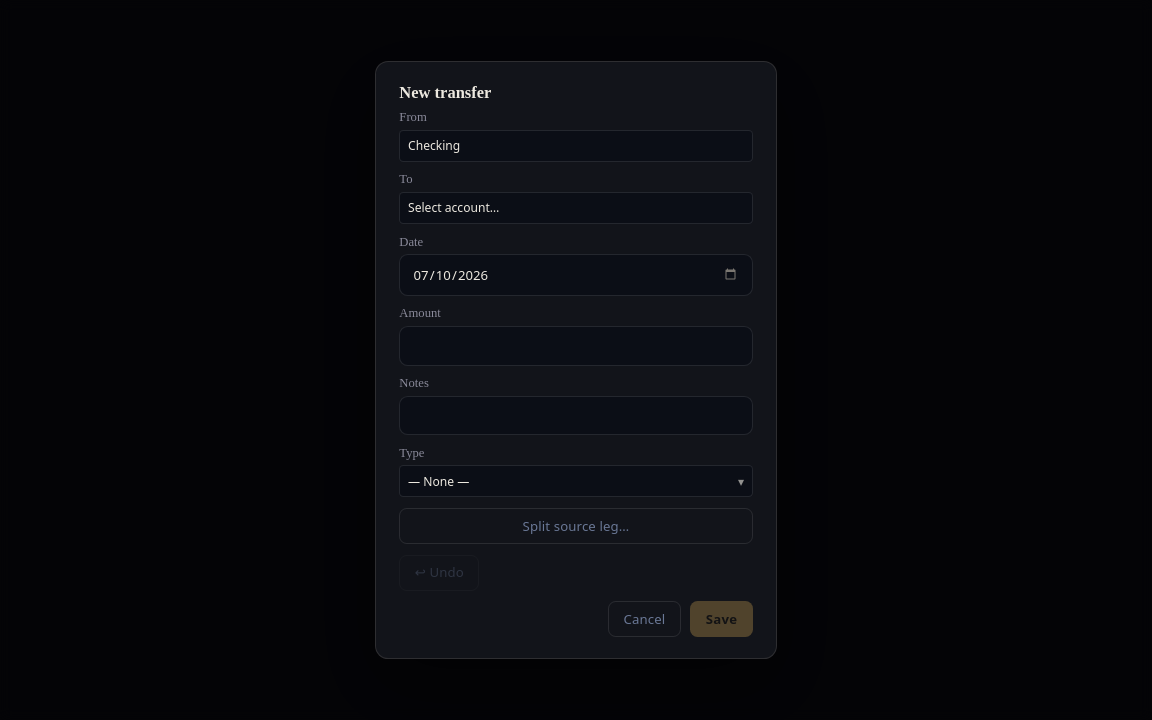
Scenario: TransferEditor › Type picker lists only transfer-flow categories plus None
The image size is (1152, 720).
Click the button with aria-label "type" at (439, 481), box [399,465,753,498]
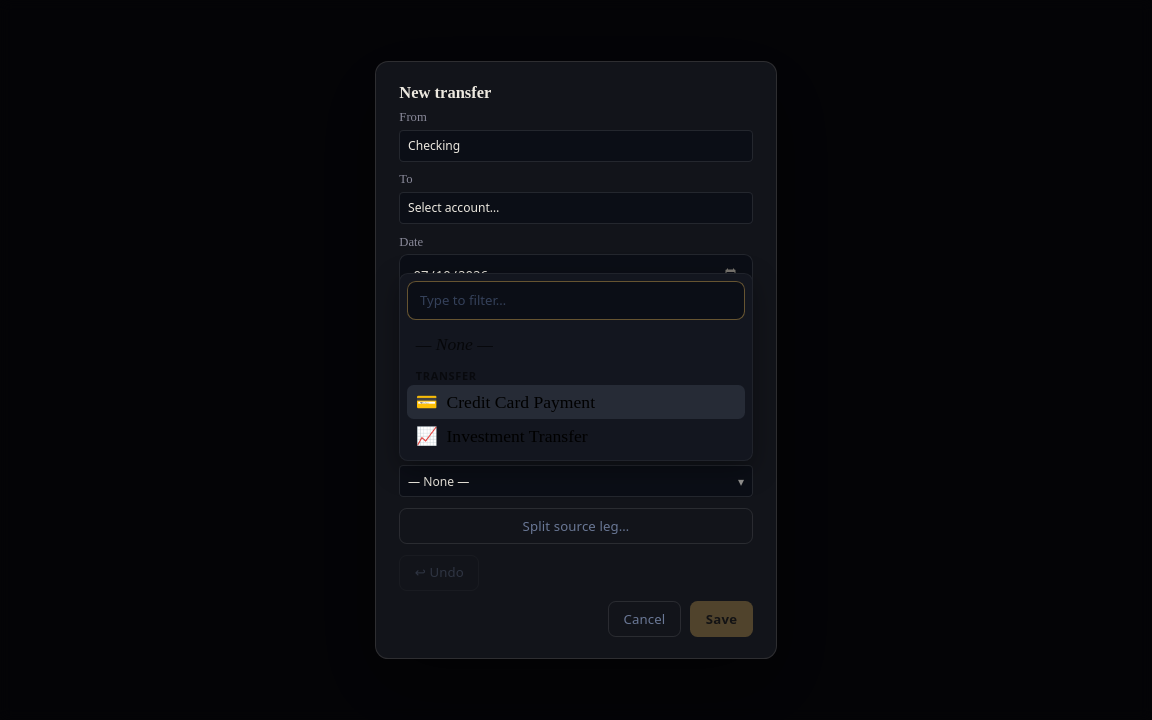
Check: the text "Credit Card Payment" is shown, box [446,392,595,412]
Check: the text "Investment Transfer" is shown, box [446,426,588,446]
